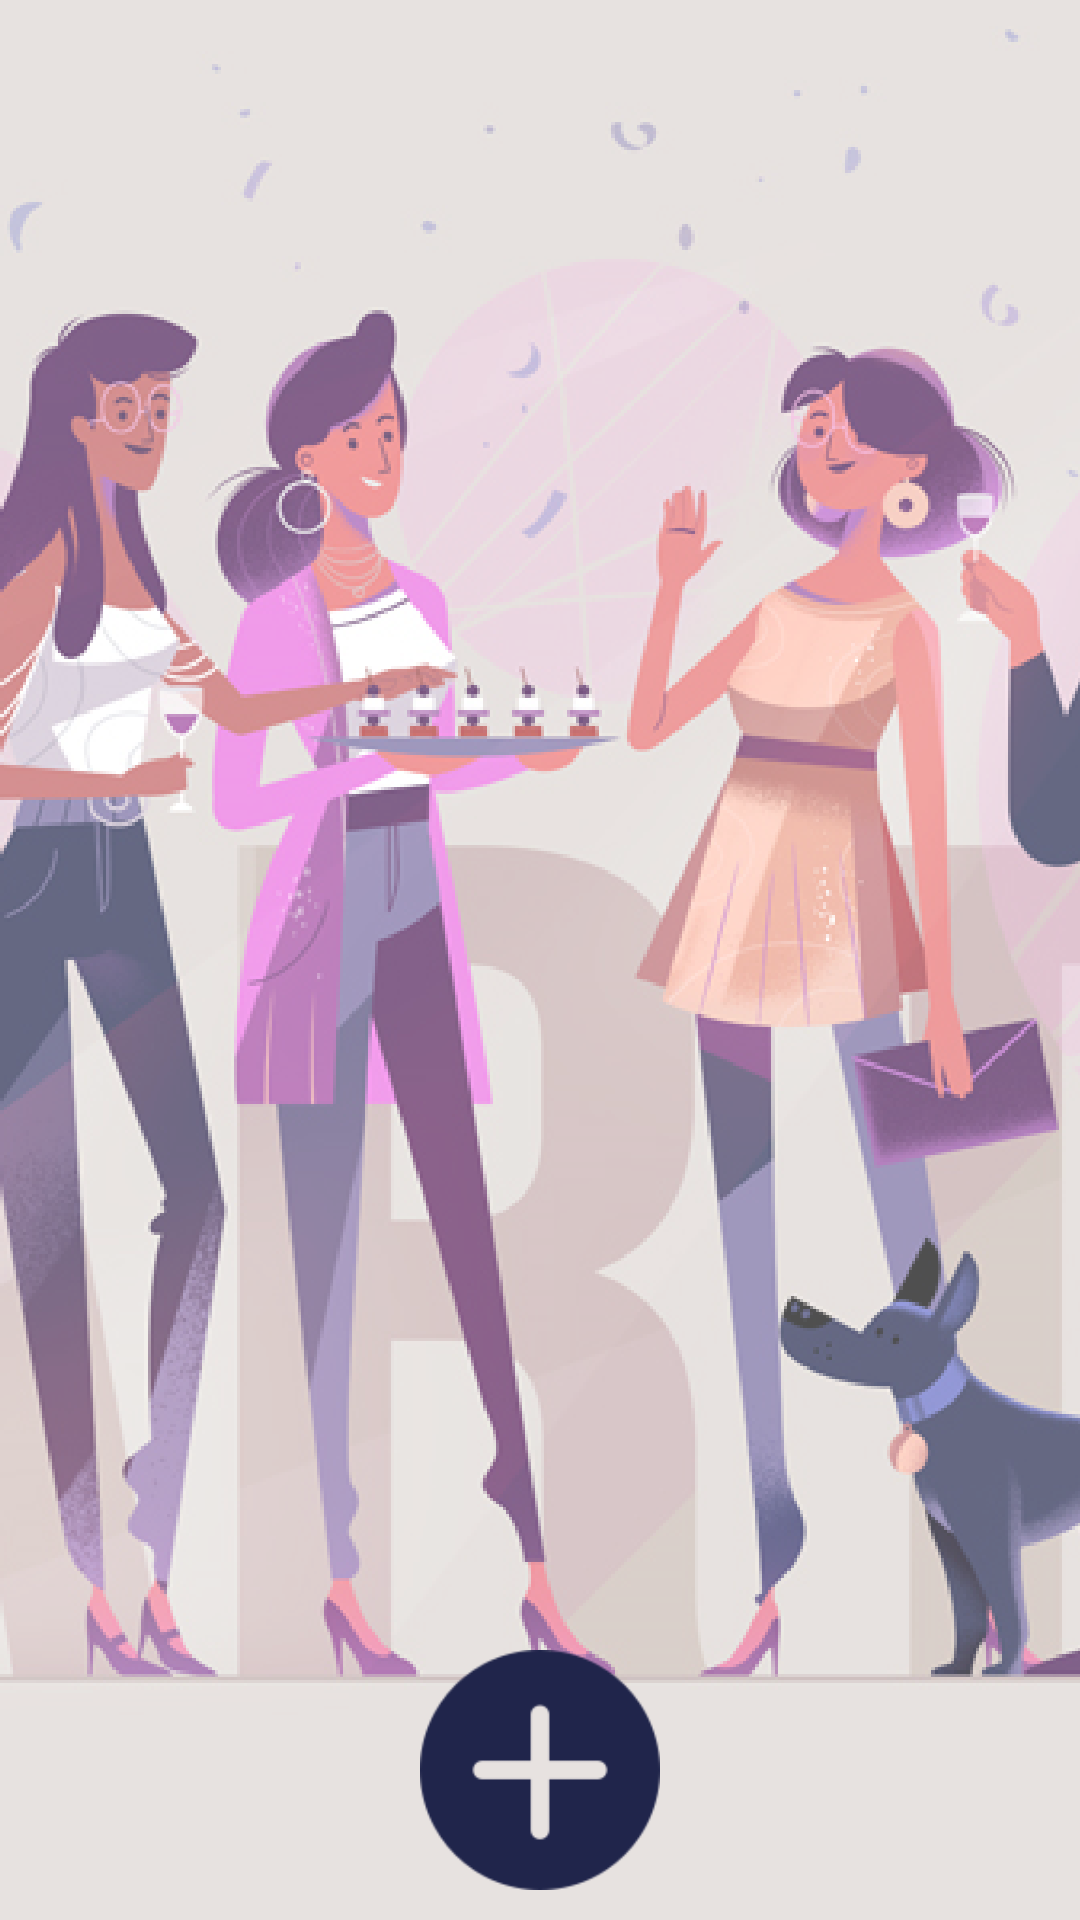

Named icons in this screenshot (1080*1920) and their centers, (x=x, y=y):
plus: (x=540, y=1770)
